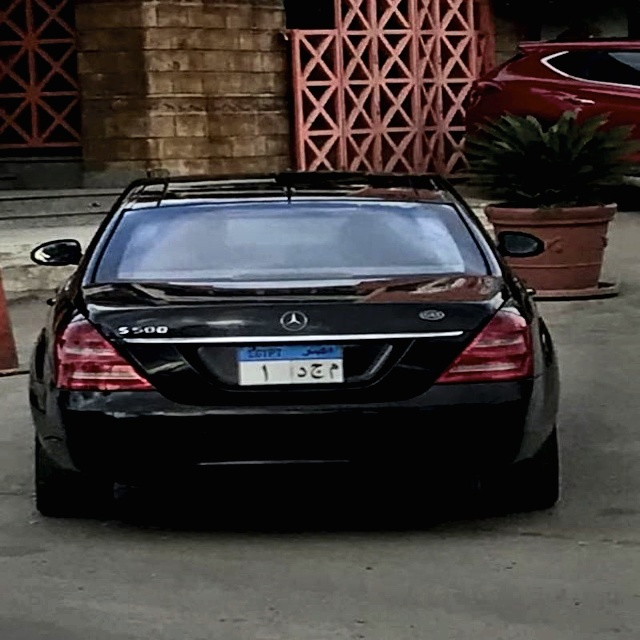License Plate: (234, 340, 348, 390)
